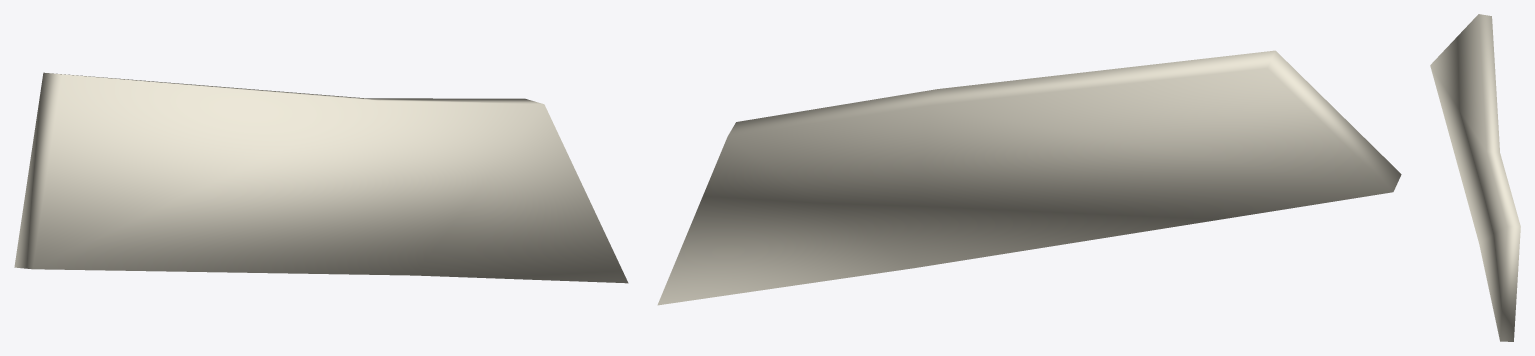
The picture shows the model from 3 angles, left to right: view 1: azimuth 30°, elevation 25°; view 2: azimuth 150°, elevation 25°; view 3: azimuth 270°, elevation 25°; orthographic projection. The views are drawn at different scales.
Parts seen in each view (by area): view 1: ZA_4c32b582c168f6fa; view 2: ZA_4c32b582c168f6fa; view 3: ZA_4c32b582c168f6fa.
Boxes of the visible parts, box(x1,y1,x2,y2) form: ZA_4c32b582c168f6fa: box(14, 72, 628, 283); ZA_4c32b582c168f6fa: box(657, 50, 1401, 305); ZA_4c32b582c168f6fa: box(1430, 14, 1520, 341).
Bounding box in the file's own units: 0.0136 × 0.00722 × 0.0032.
